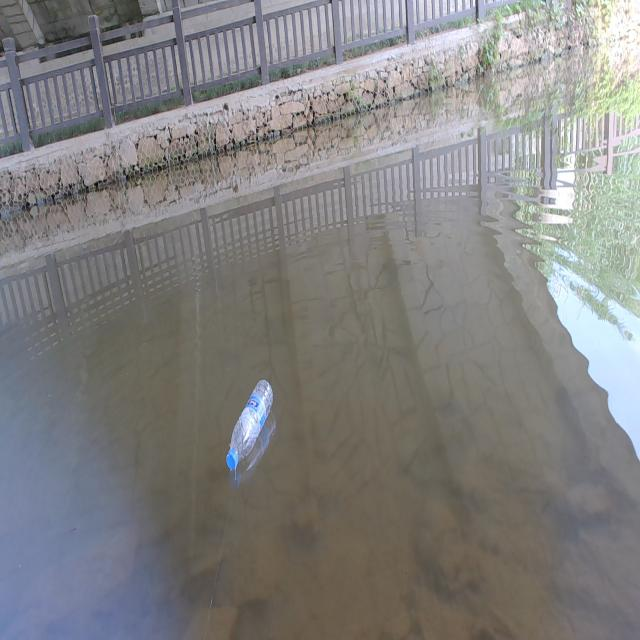Bottle: (225, 377, 275, 472)
